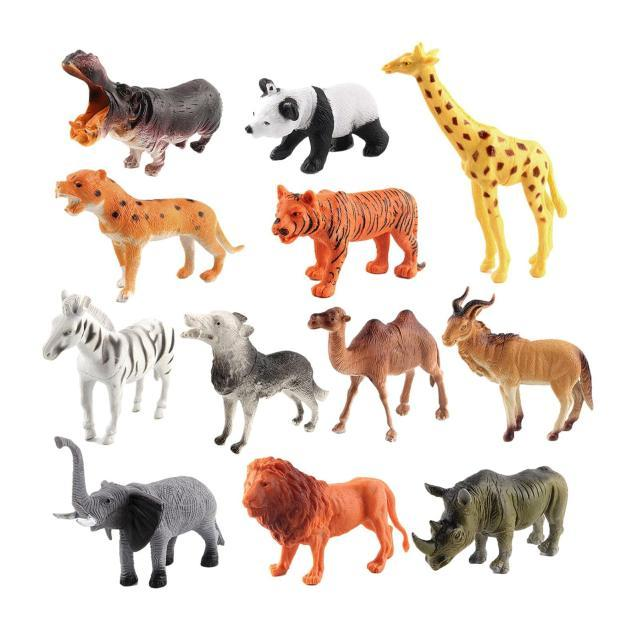hard-toy: (384, 45, 567, 284), (56, 439, 225, 589), (56, 171, 245, 303), (444, 289, 595, 442), (244, 459, 410, 586), (182, 312, 329, 455), (44, 292, 176, 446), (64, 51, 224, 177), (309, 309, 450, 442), (272, 186, 426, 299), (414, 467, 569, 575), (246, 80, 390, 175)
